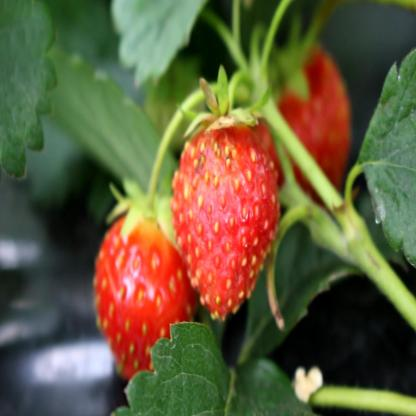ripe: (166, 106, 282, 308), (78, 181, 185, 373), (261, 60, 343, 190)
